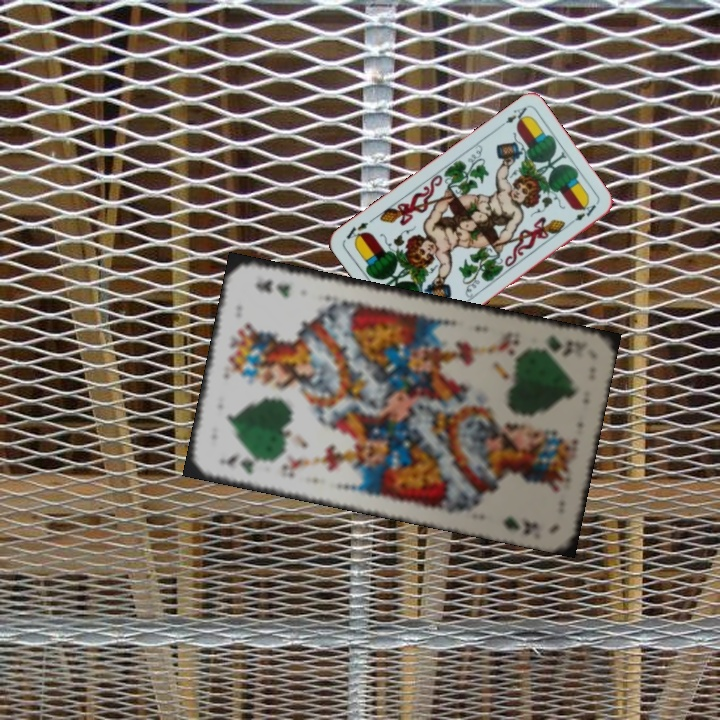EA: (494, 103, 531, 132)
GK: (214, 450, 271, 476), (531, 330, 566, 354)
